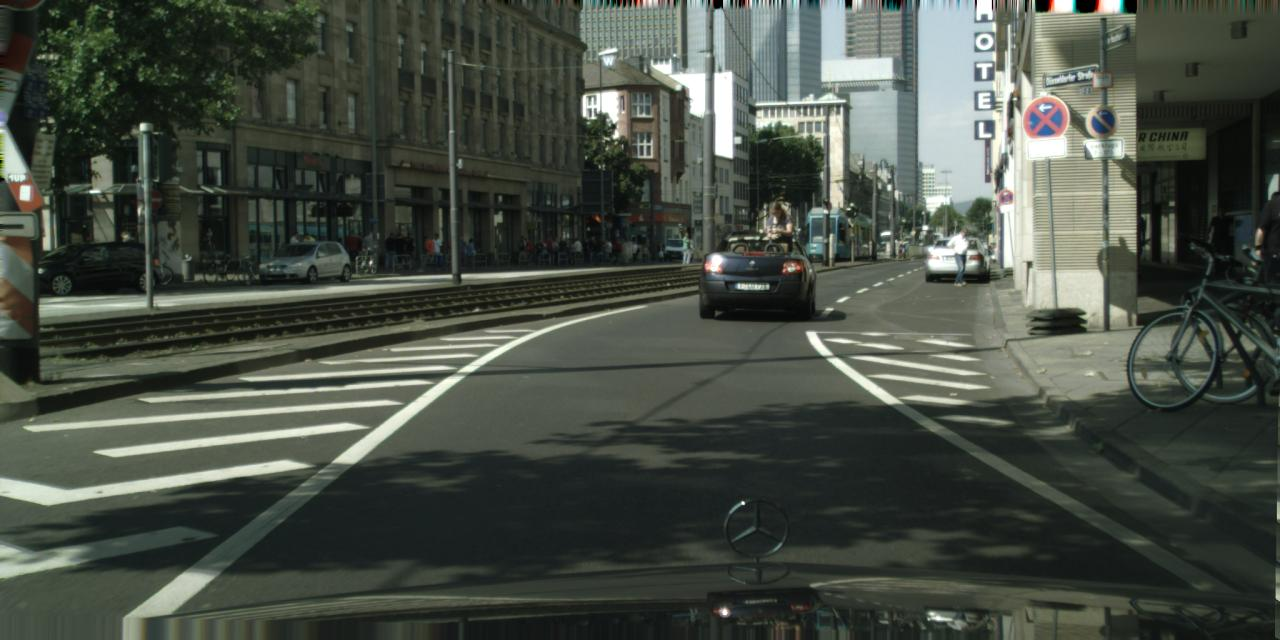ped: (1243, 192, 1279, 340), (1203, 206, 1238, 294), (764, 201, 794, 278), (1118, 202, 1148, 278), (949, 227, 974, 287), (120, 231, 138, 276), (344, 230, 360, 272), (362, 231, 378, 271), (287, 231, 302, 270), (427, 233, 442, 271), (300, 232, 315, 270), (418, 234, 433, 270), (352, 232, 367, 268), (402, 232, 416, 270), (391, 234, 406, 268), (444, 233, 458, 269), (384, 233, 398, 268), (679, 232, 692, 264), (454, 236, 467, 268), (396, 232, 409, 264), (463, 238, 476, 269), (556, 236, 568, 266), (540, 236, 552, 265), (544, 236, 556, 265), (610, 236, 622, 264), (520, 237, 531, 266), (570, 237, 581, 265), (515, 237, 526, 264), (550, 237, 560, 266), (580, 238, 591, 264), (532, 240, 542, 266), (588, 236, 598, 261), (602, 240, 612, 264), (596, 237, 605, 262), (629, 240, 637, 262), (656, 241, 664, 262), (641, 244, 648, 262)
